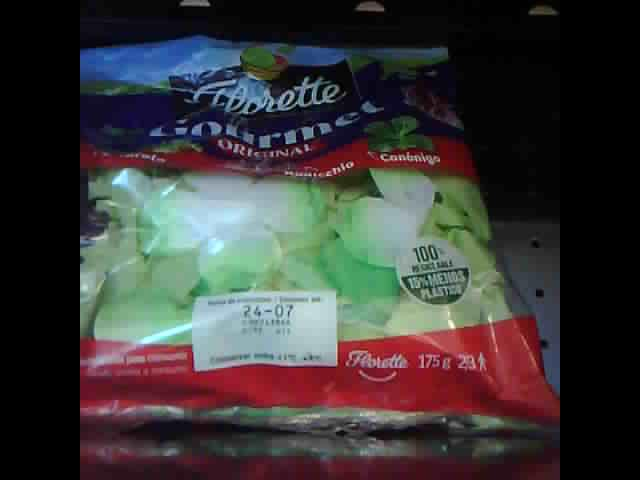florette: (82, 33, 558, 437)
